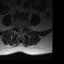CCS_normal: (20, 26, 21, 34)
LFS_severe_stenosis: (23, 25, 25, 30)
LLS_stenosis: (21, 27, 23, 32)
RFS_stenosis: (16, 25, 18, 30)
RLS_stenosis: (18, 26, 20, 32)
